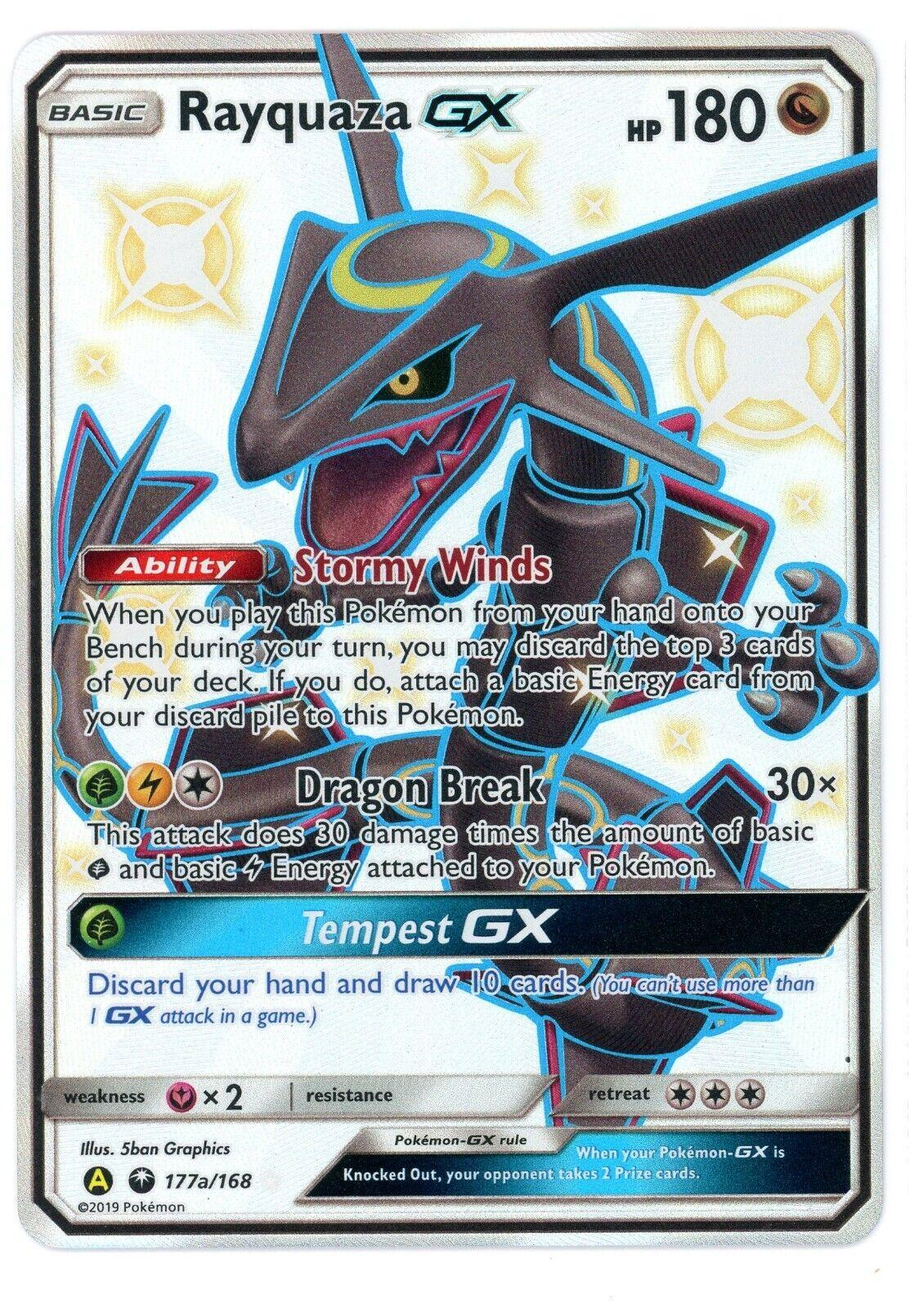card-2UtV: (11, 29, 884, 1251)
